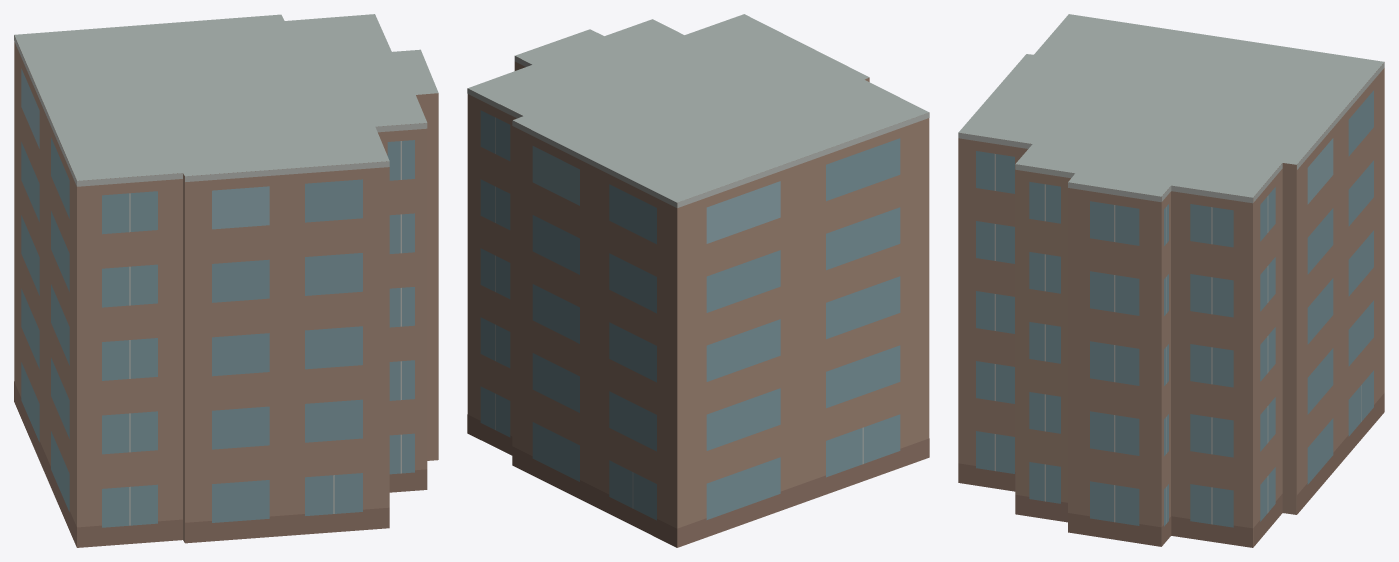
Rendered from survey-upis-32606968.glb.
3 renders of one model, left to right at view 1: azimuth 30°, elevation 25°; view 2: azimuth 150°, elevation 25°; view 3: azimuth 270°, elevation 25°, orthographic. The views are drawn at different scales.
Visible parts, largest first — view 1: survey-upis-32606968.tmp; view 2: survey-upis-32606968.tmp; view 3: survey-upis-32606968.tmp.
Part boxes in pixels (left/top/right/bottom): survey-upis-32606968.tmp: left=14, top=14, right=438, bottom=547; survey-upis-32606968.tmp: left=467, top=14, right=929, bottom=547; survey-upis-32606968.tmp: left=958, top=14, right=1384, bottom=547.
Size of the model in its own units: 17.17 by 15.25 by 16.84.
